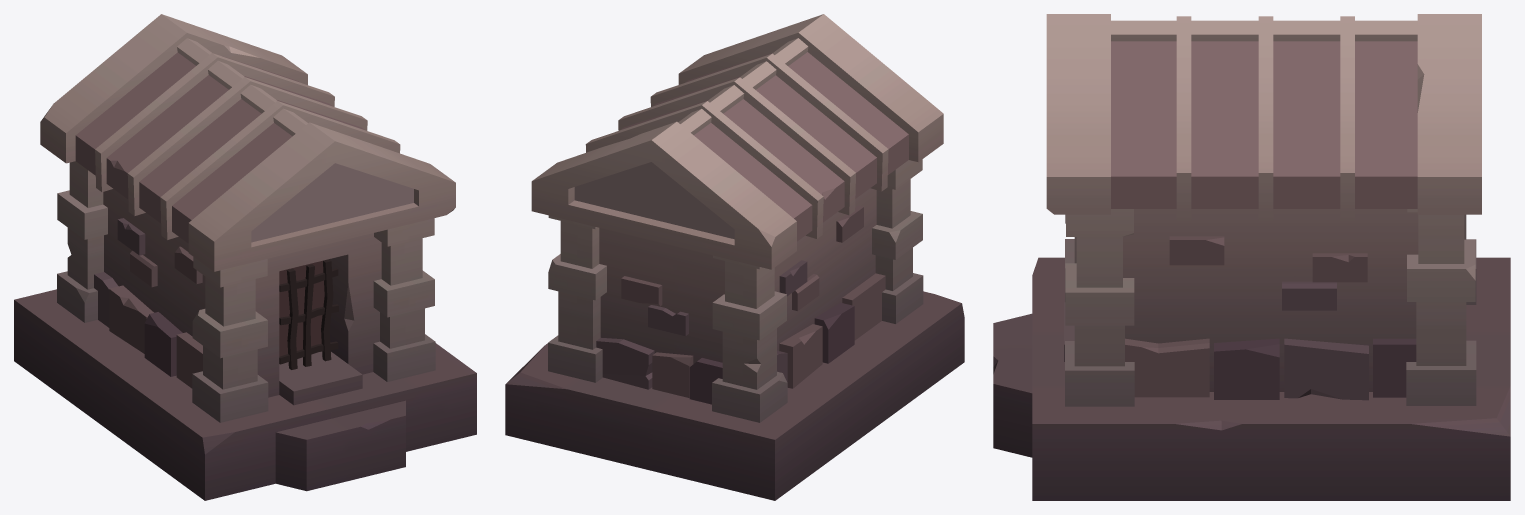
File: inhibitor.glb
3 renders of one model, left to right at view 1: azimuth 30°, elevation 25°; view 2: azimuth 150°, elevation 25°; view 3: azimuth 270°, elevation 25°, orthographic. The views are drawn at different scales.
Visible parts, largest first — view 1: mausoleumSmall; view 2: mausoleumSmall; view 3: mausoleumSmall.
Part boxes in pixels (bbox=[...]): mausoleumSmall: bbox=[14, 14, 476, 500]; mausoleumSmall: bbox=[505, 14, 964, 500]; mausoleumSmall: bbox=[993, 14, 1510, 500].
Bounding box in the file's own units: 3.67 × 4.15 × 4.82.
Materials: 1 (1 with a texture image).
